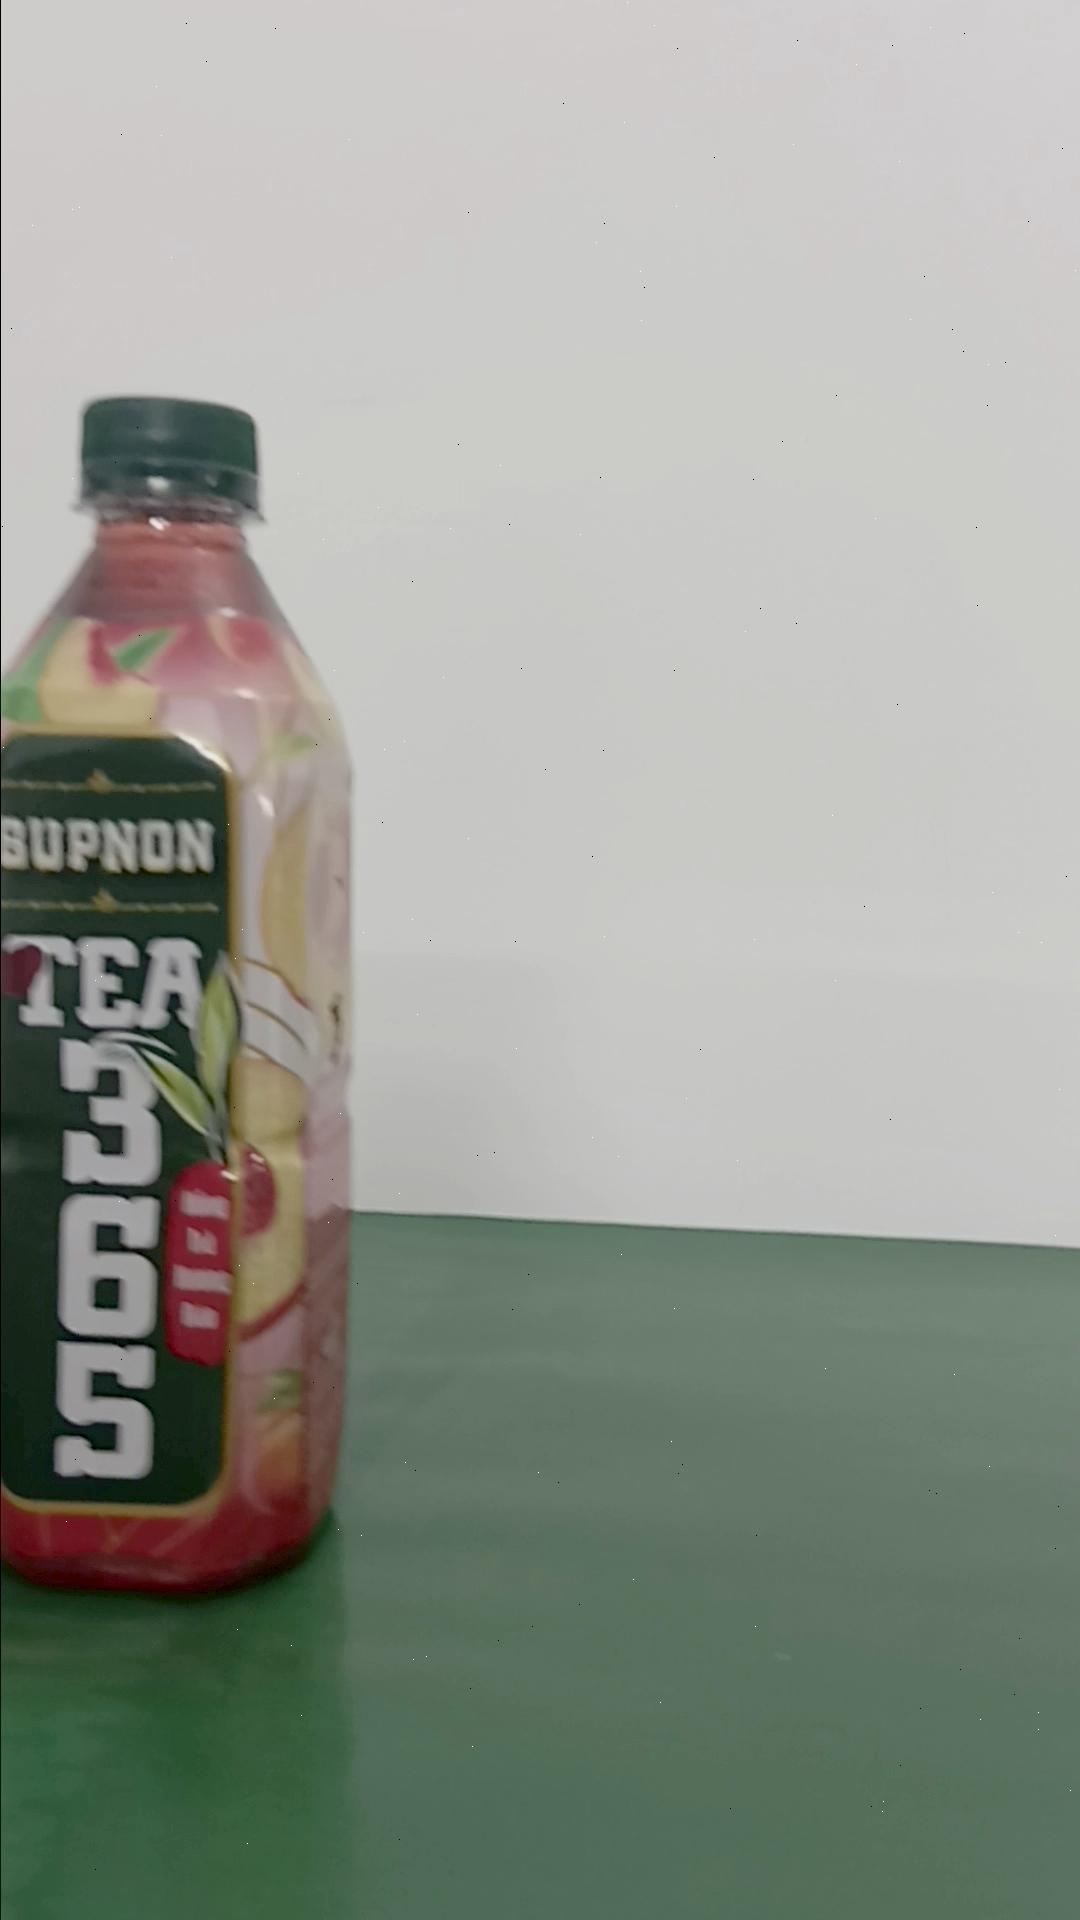loi rach va lap chai: (3, 382, 364, 1605)
